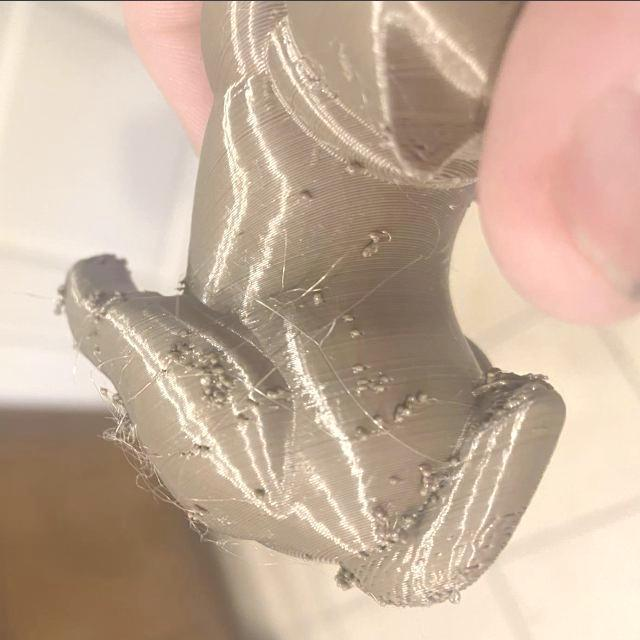zits: (332, 568, 354, 590), (185, 501, 207, 522), (360, 242, 380, 262), (208, 386, 226, 406), (371, 412, 388, 432), (264, 385, 282, 403), (449, 452, 463, 474), (376, 370, 394, 387), (346, 158, 362, 177), (164, 346, 179, 364), (220, 376, 236, 392), (248, 485, 264, 501), (190, 444, 206, 460), (374, 508, 390, 524), (342, 308, 356, 326), (356, 424, 371, 440), (416, 462, 432, 477), (354, 361, 369, 376), (296, 190, 312, 204), (386, 473, 400, 489), (416, 483, 433, 495), (310, 292, 324, 306), (196, 374, 210, 388), (356, 374, 370, 388), (349, 326, 362, 340), (353, 382, 364, 398), (179, 326, 193, 338), (210, 363, 224, 375), (376, 382, 386, 394)
